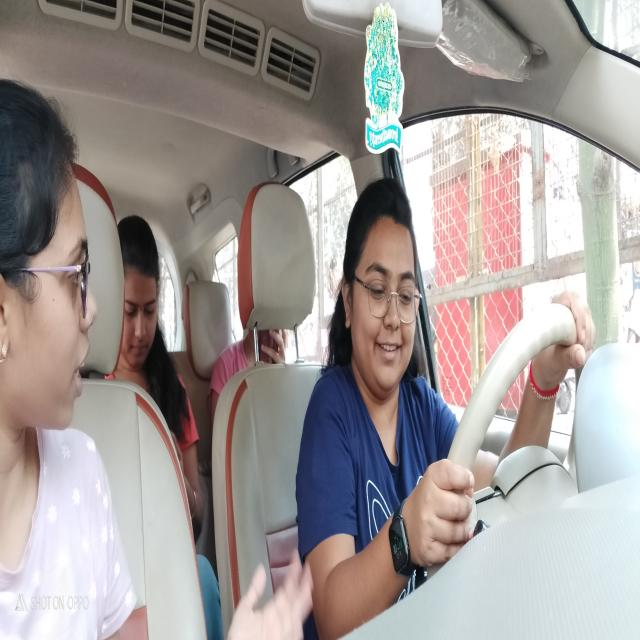person: (0, 71, 97, 468), (336, 166, 422, 400), (120, 209, 162, 367)
